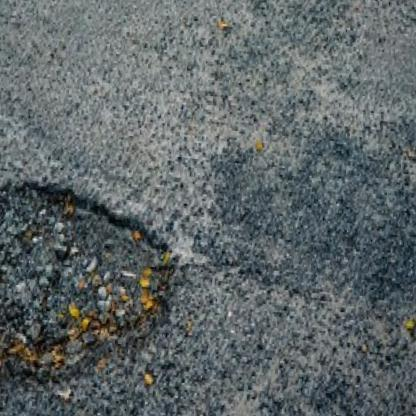pothole: (0, 168, 182, 399)
